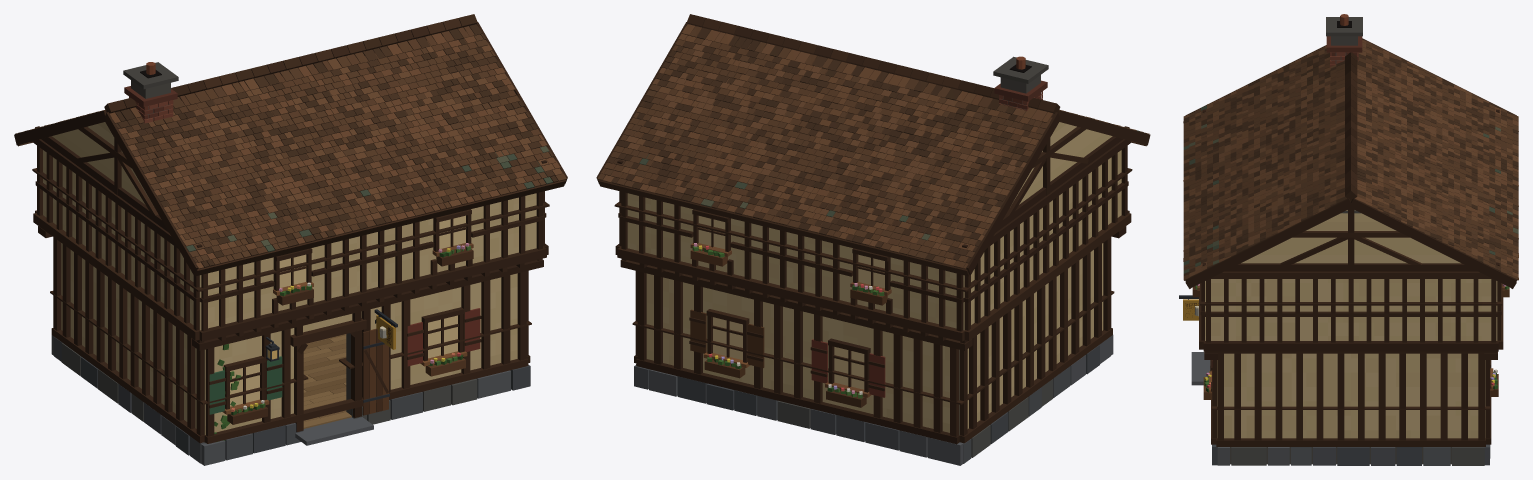
File: inn.glb
3 views of the same model, side by side, from view 1: azimuth 30°, elevation 25°; view 2: azimuth 150°, elevation 25°; view 3: azimuth 270°, elevation 25° (orthographic). The views are drawn at different scales.
Visible parts, largest first — view 1: inn_shell, inn_interior, inn_glass, inn_cap1, inn_cap; view 2: inn_shell, inn_glass, inn_cap1, inn_cap; view 3: inn_shell, inn_cap1, inn_cap.
Boxes of the visible parts, x1=… form: inn_shell: x1=14, y1=14, x2=567, y2=465; inn_interior: x1=303, y1=334, x2=351, y2=428; inn_glass: x1=230, y1=215, x2=465, y2=406; inn_cap1: x1=32, y1=168, x2=549, y2=291; inn_cap: x1=50, y1=291, x2=531, y2=404; inn_shell: x1=596, y1=14, x2=1150, y2=465; inn_glass: x1=698, y1=216, x2=884, y2=389; inn_cap1: x1=614, y1=168, x2=1132, y2=291; inn_cap: x1=632, y1=291, x2=1114, y2=404; inn_shell: x1=1179, y1=14, x2=1518, y2=465; inn_cap1: x1=1200, y1=283, x2=1502, y2=305; inn_cap: x1=1212, y1=383, x2=1490, y2=409.
Size of the model in its own units: 11.64 by 10.32 by 10.12.
